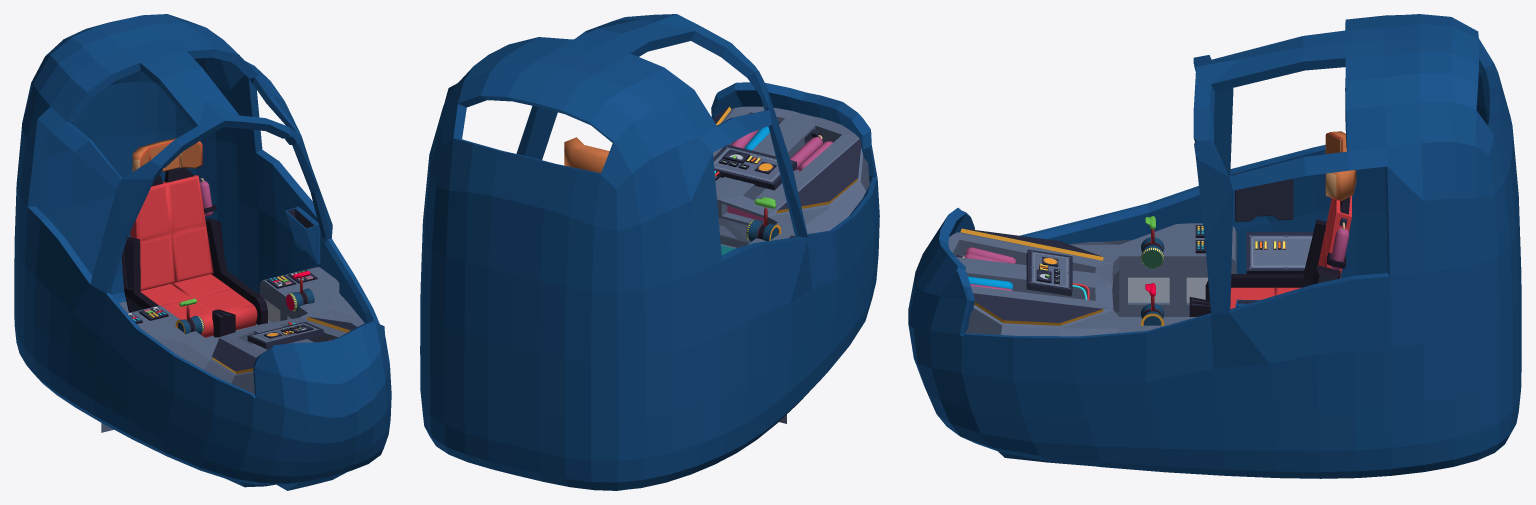
Rendered from cockpit_model.glb.
3 views of the same model, side by side, from view 1: azimuth 30°, elevation 25°; view 2: azimuth 150°, elevation 25°; view 3: azimuth 270°, elevation 25° (orthographic). The views are drawn at different scales.
Parts seen in each view (by area): view 1: Cube, Cube.001, Cube.004, Cube.012, Cube.010, Cube.013, ConolYoke.007; view 2: Cube, Cube.004, Cube.013, Cube.010, ConolYoke.003; view 3: Cube, Cube.004, Cube.001, Cube.037, Cube.011, Cube.013, Cube.010.
Boxes of the visible parts, bbox=[...] form: Cube: bbox=[14, 14, 391, 490]; Cube.001: bbox=[121, 168, 267, 337]; Cube.004: bbox=[101, 267, 364, 432]; Cube.012: bbox=[285, 206, 320, 264]; Cube.010: bbox=[132, 138, 202, 172]; Cube.013: bbox=[247, 322, 323, 348]; ConolYoke.007: bbox=[286, 288, 314, 311]; Cube: bbox=[420, 14, 879, 490]; Cube.004: bbox=[713, 106, 869, 423]; Cube.013: bbox=[713, 145, 797, 190]; Cube.010: bbox=[564, 137, 609, 172]; ConolYoke.003: bbox=[746, 219, 781, 241]; Cube: bbox=[908, 14, 1521, 478]; Cube.004: bbox=[948, 223, 1236, 336]; Cube.001: bbox=[1189, 196, 1351, 316]; Cube.037: bbox=[1246, 232, 1313, 273]; Cube.011: bbox=[1235, 172, 1293, 221]; Cube.013: bbox=[1026, 249, 1072, 296]; Cube.010: bbox=[1325, 131, 1356, 201].
Bounding box in the file's own units: 3 × 3.77 × 5.24.
Materials: 11 (4 with a texture image).
